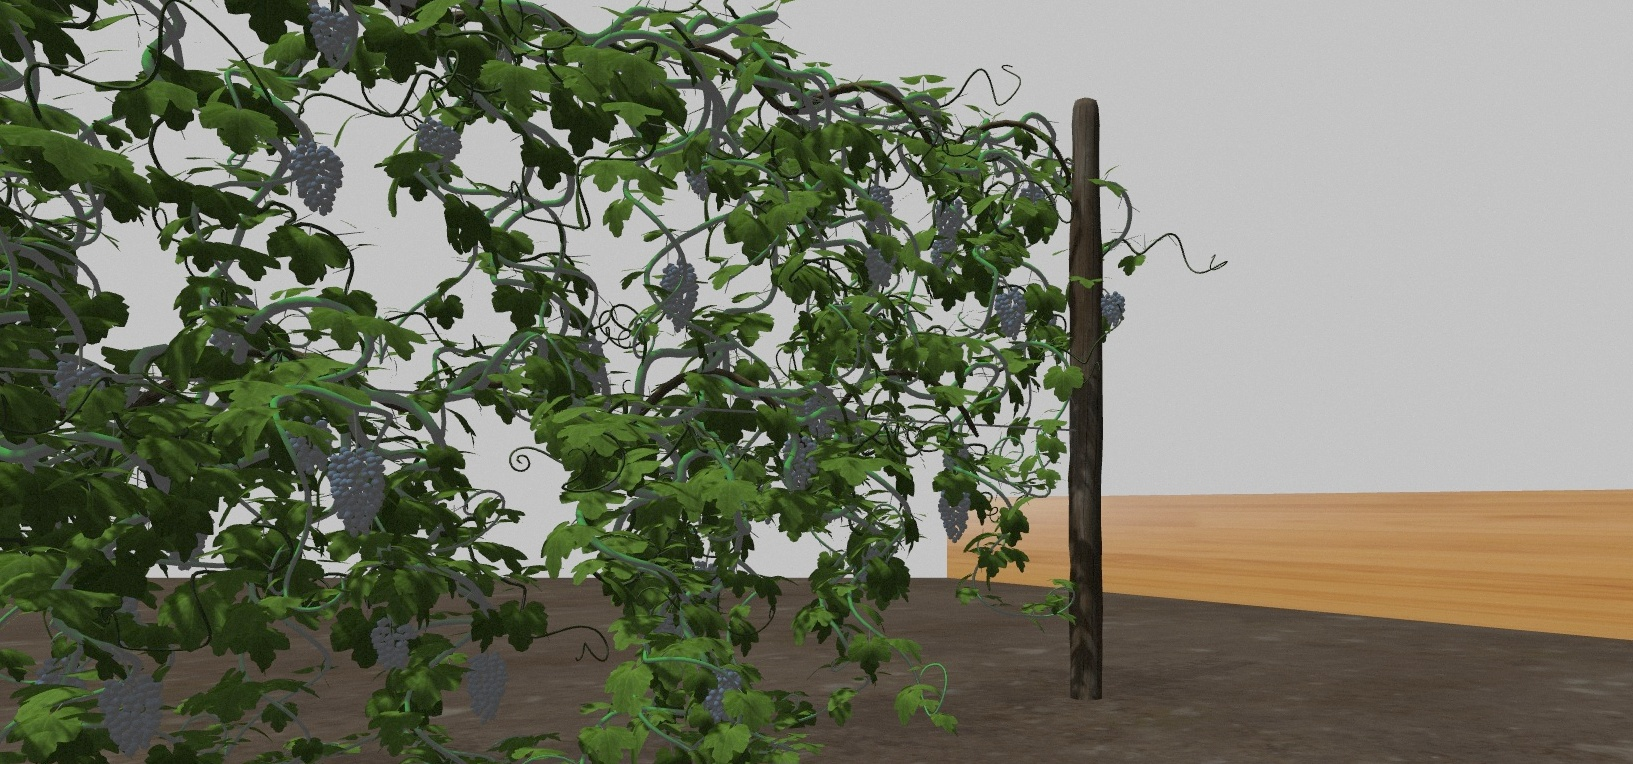grape: (97, 669, 164, 755), (328, 449, 388, 540), (288, 141, 344, 217), (458, 650, 509, 723), (656, 261, 699, 332), (369, 616, 417, 674), (284, 414, 331, 474), (308, 6, 353, 65), (414, 120, 464, 164), (51, 360, 97, 406), (782, 437, 819, 490), (938, 489, 972, 542), (993, 288, 1026, 340), (706, 672, 740, 722), (860, 184, 893, 235), (805, 394, 835, 440), (865, 247, 893, 288), (936, 201, 964, 239), (929, 238, 957, 269), (1102, 292, 1126, 325)
